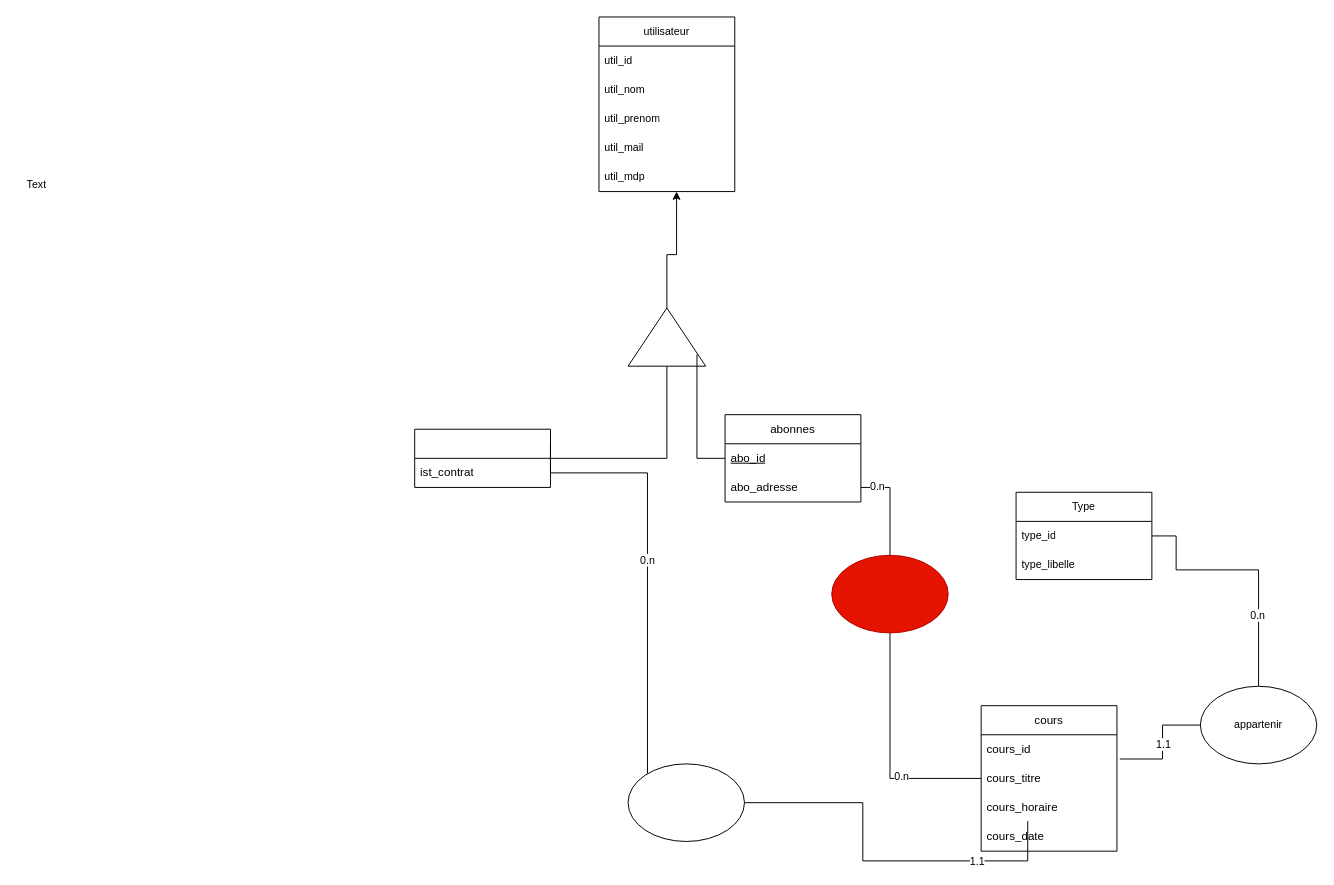
Some shapes in this 1334 by 885 pixel diagram are drawn without their labels. Here are the shapes that lost their labels. From the top down, the box of each, then its label:
(414, 428, 550, 487): instructeur
(831, 554, 948, 633): s'inscrire
(627, 763, 744, 841): dispenser
